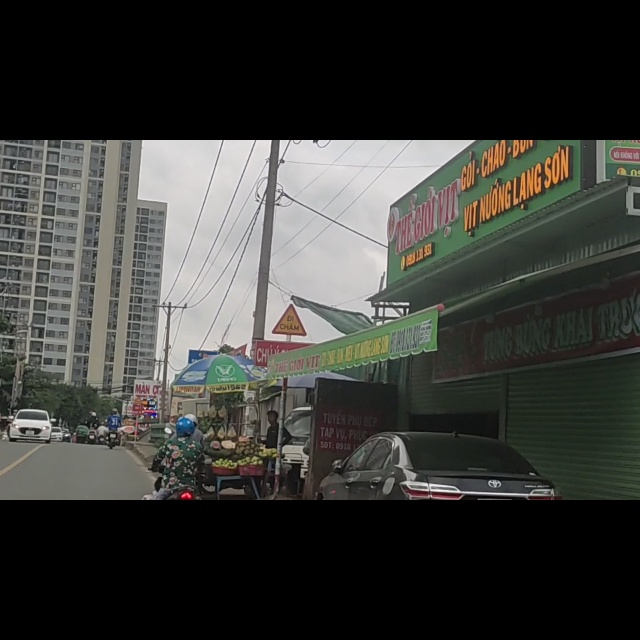bien_cam: (273, 290, 307, 348)
